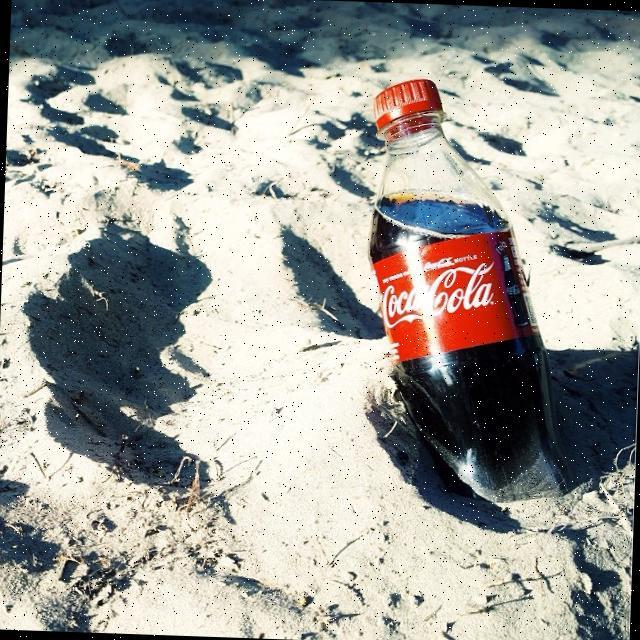coca-cola: (357, 76, 584, 501)
